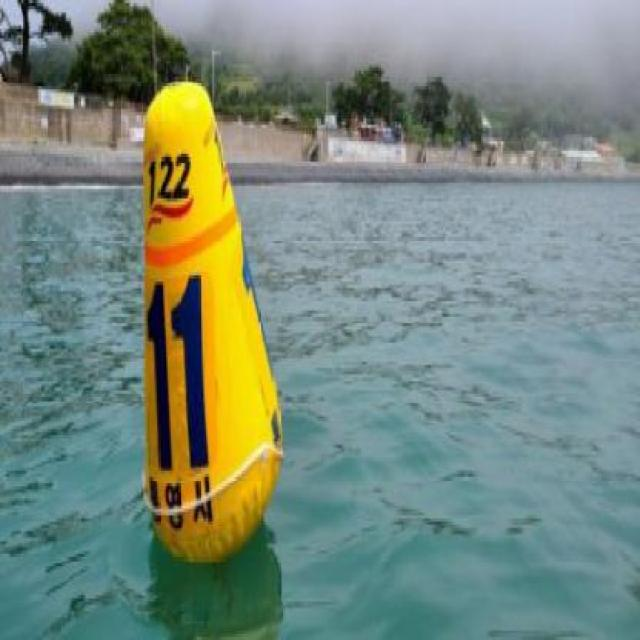a: (120, 52, 299, 584)
